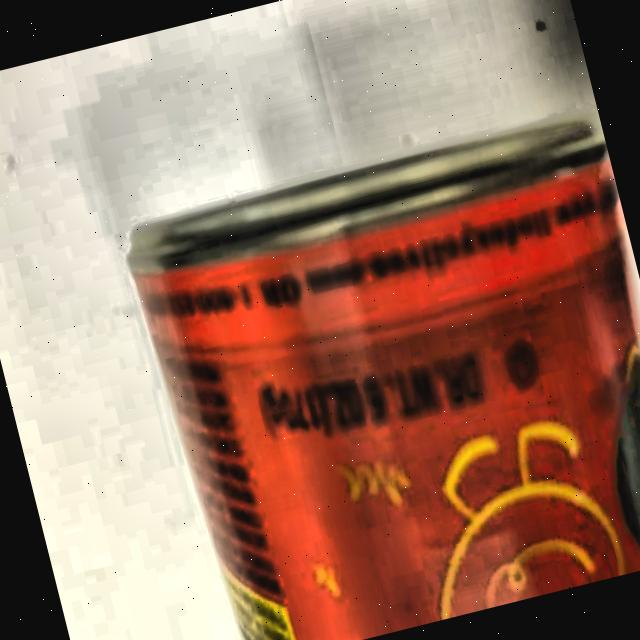metal: (110, 98, 640, 640)
